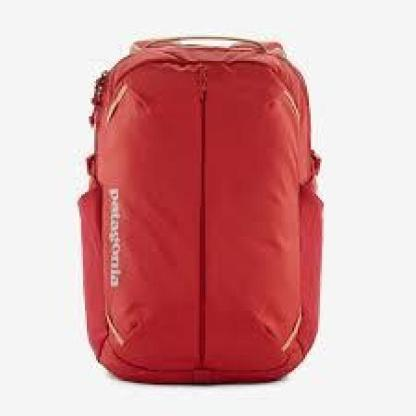bag: (77, 24, 325, 391)
